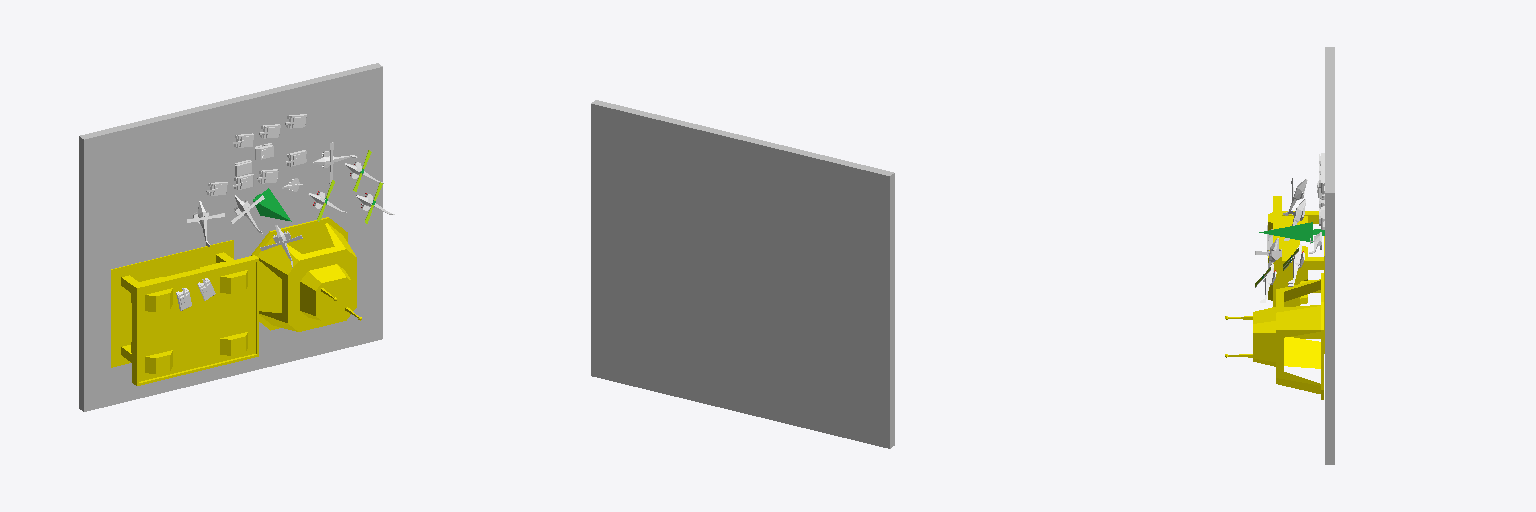
The model's file is raic5_colored3.obj.
The picture shows the model from 3 angles: view 1: azimuth 30°, elevation 25°; view 2: azimuth 150°, elevation 25°; view 3: azimuth 270°, elevation 25°; orthographic projection.
Size of the model in its own units: 1345 by 1172 by 431.